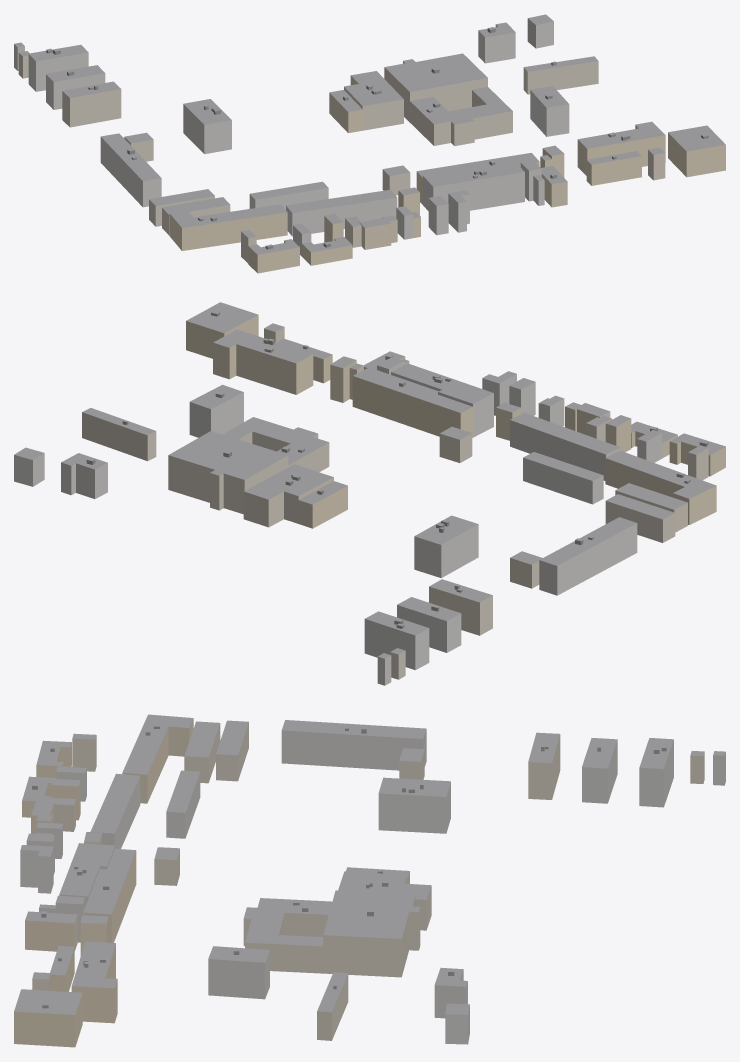
The model's file is building_3_-3.glb.
The picture shows the model from 3 angles, top to bottom: view 1: azimuth 30°, elevation 25°; view 2: azimuth 150°, elevation 25°; view 3: azimuth 270°, elevation 25°; orthographic projection. The views are drawn at different scales.
Visible parts, largest first — view 1: roof, concrete_light, sandstone, concrete_warm; view 2: roof, concrete_light, sandstone, concrete_warm; view 3: roof, concrete_light, concrete_warm, sandstone.
Part boxes in pixels (x1,y1,x2,y2): roof: (14,14,725,254); concrete_light: (14,18,569,256); sandstone: (169,93,725,273); concrete_warm: (18,53,665,263); roof: (14,302,725,658); concrete_light: (14,361,662,685); sandstone: (186,315,725,528); concrete_warm: (82,327,708,679); roof: (14,714,725,1014); concrete_light: (20,729,725,1044); concrete_warm: (32,723,704,1040); sandstone: (14,719,409,1047).
Size of the model in its own units: 260 by 16.97 by 258.
